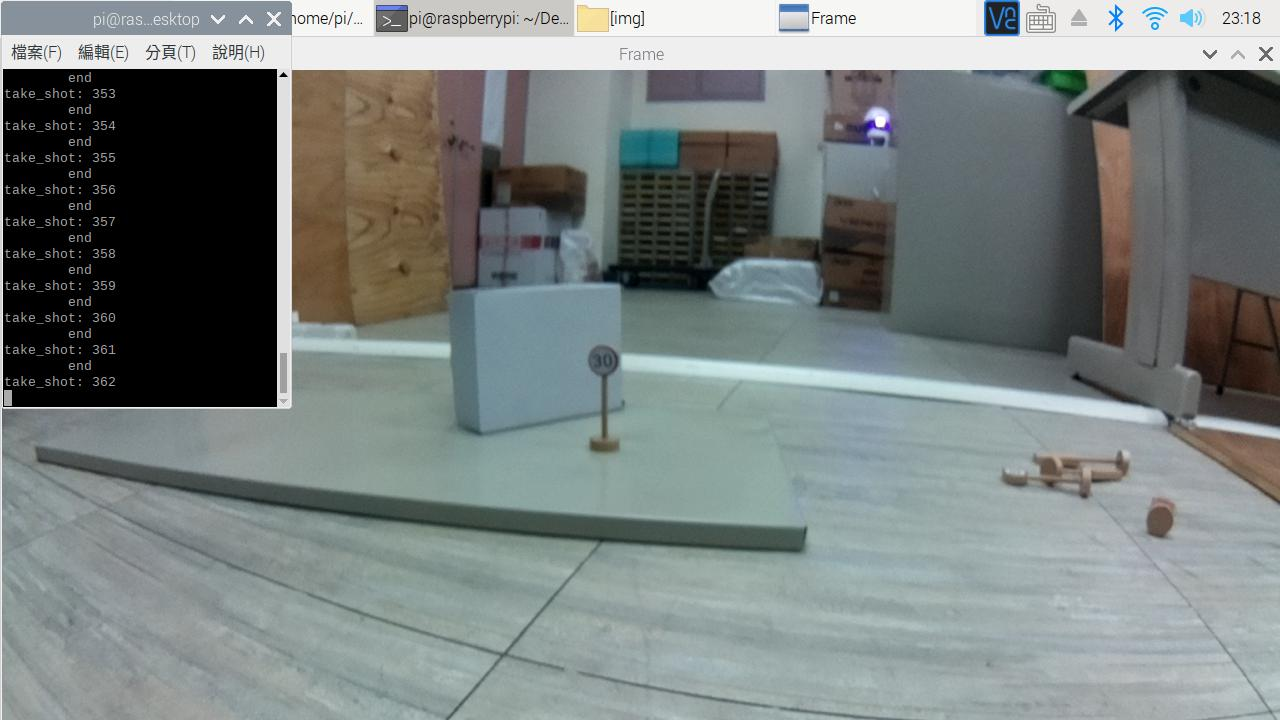Speed30: (583, 335, 634, 395)
